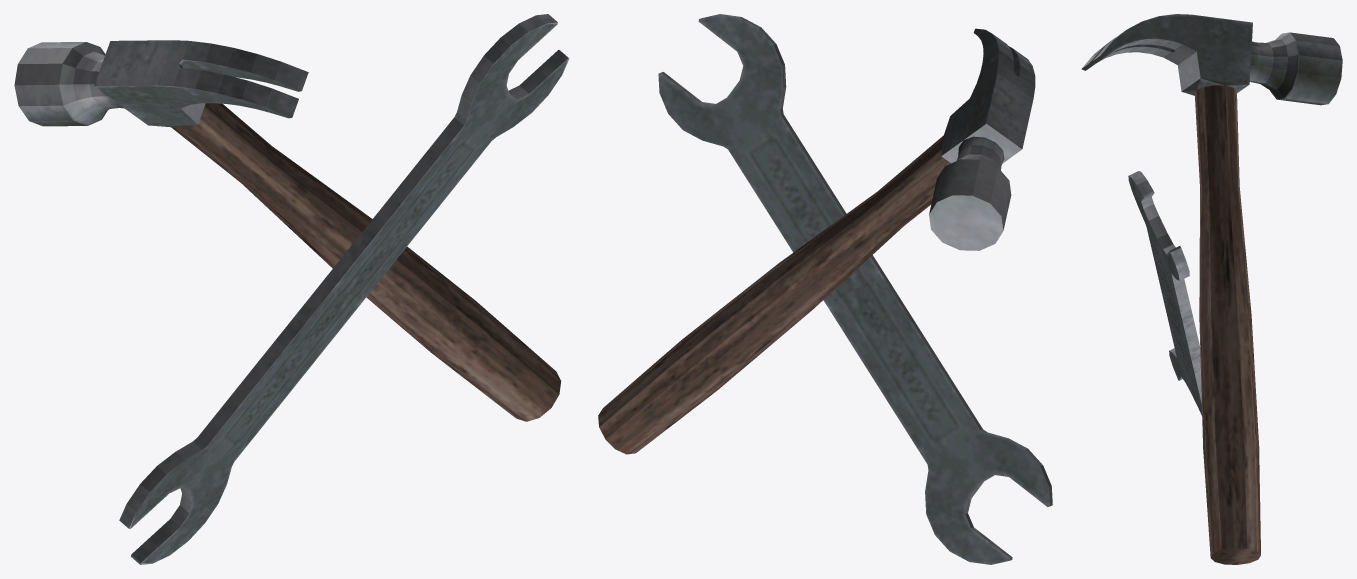
Rendered from config.ico.obj.
3 renders of one model, left to right at view 1: azimuth 30°, elevation 25°; view 2: azimuth 150°, elevation 25°; view 3: azimuth 270°, elevation 25°, orthographic. The views are drawn at different scales.
Bounding box in the file's own units: 3.77 × 3.95 × 2.12.
